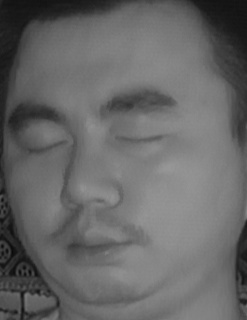blink: (113, 121, 165, 160), (22, 128, 68, 164)
mouth: (55, 218, 140, 270)
